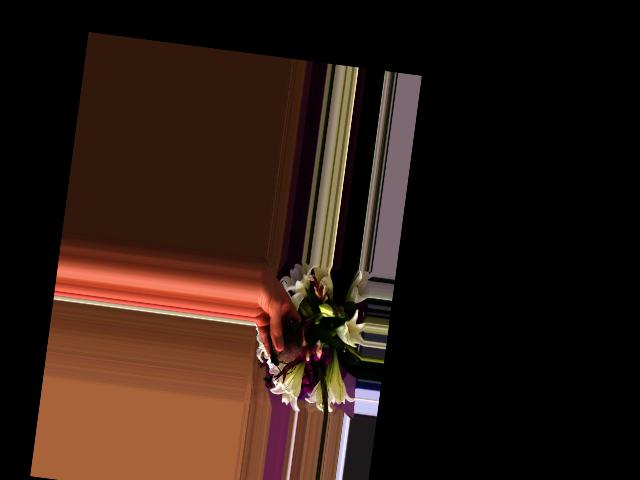beet: (267, 306, 328, 379)
